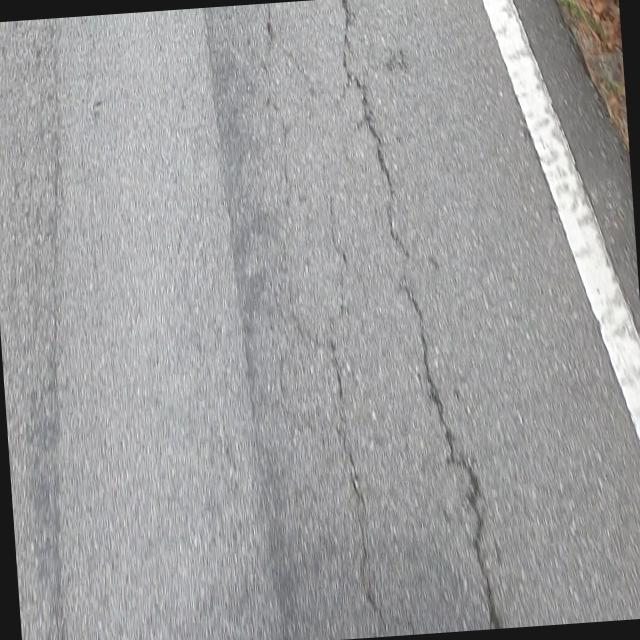Retak-Memanjang: (399, 285, 498, 625), (338, 0, 408, 257), (329, 342, 384, 623)
